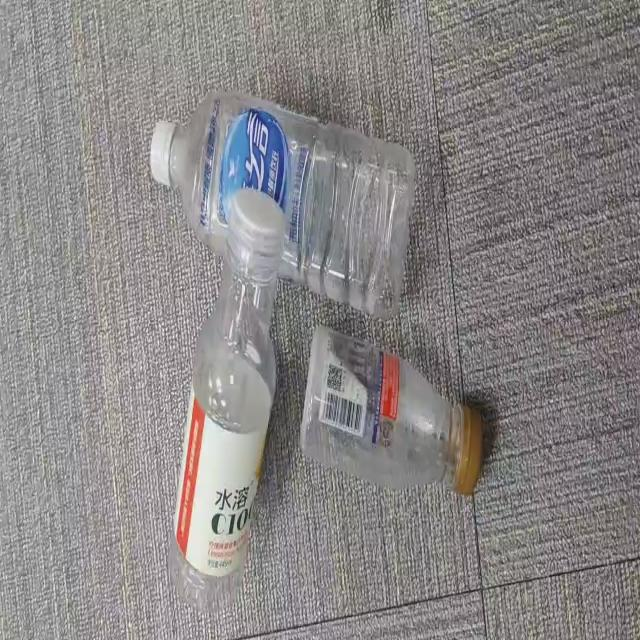bottle: (151, 93, 417, 318), (167, 187, 286, 612), (300, 325, 481, 493)
